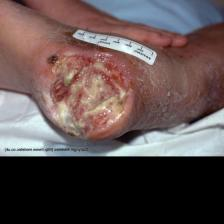Wound: (45, 51, 137, 140)
